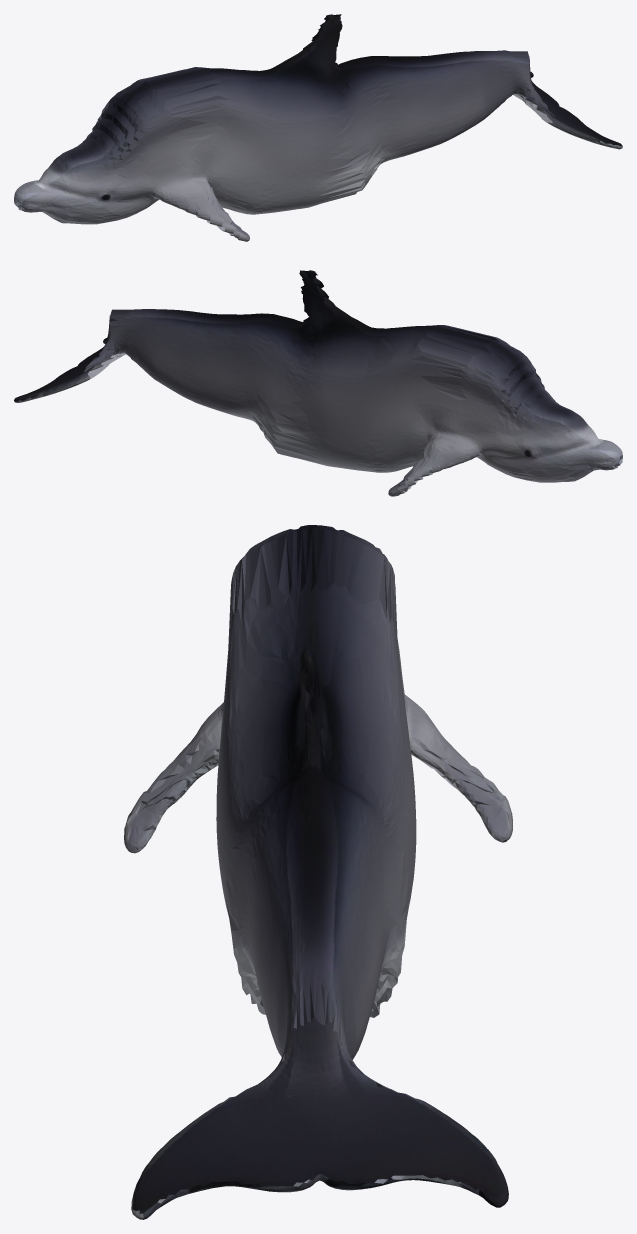
File: 04_canonical_mesh.glb
The picture shows the model from 3 angles, top to bottom: view 1: azimuth 30°, elevation 25°; view 2: azimuth 150°, elevation 25°; view 3: azimuth 270°, elevation 25°; orthographic projection. The views are drawn at different scales.
Parts seen in each view (by area): view 1: world; view 2: world; view 3: world.
Part boxes in pixels (x1=…): world: x1=14, y1=14, x2=622, y2=241; world: x1=14, y1=270, x2=622, y2=496; world: x1=124, y1=525, x2=512, y2=1219.
Bounding box in the file's own units: 1.74 × 0.539 × 0.5223.
1 material, 1 textured.
